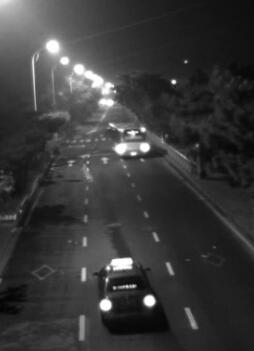bus: (107, 119, 151, 156)
car: (90, 259, 159, 324)
